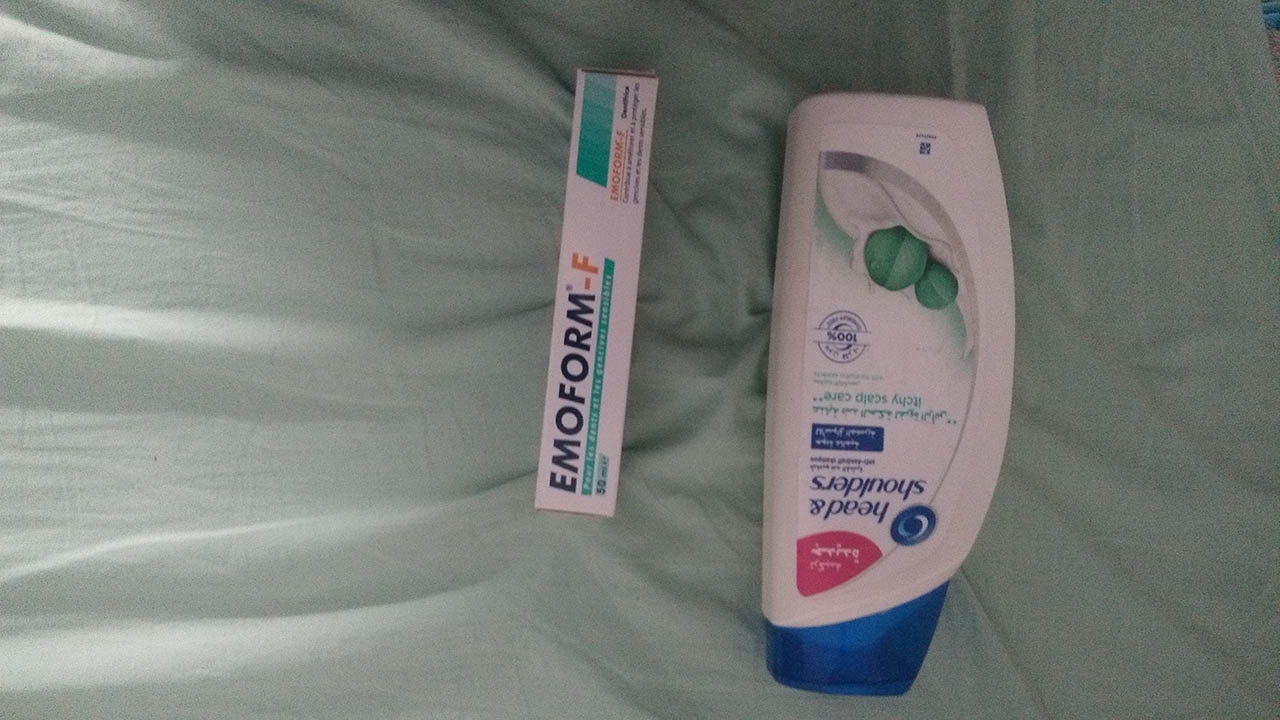Toothpaste-F 1.5$: (524, 73, 664, 525)
shampoo-green 4.5$: (777, 79, 994, 714)
